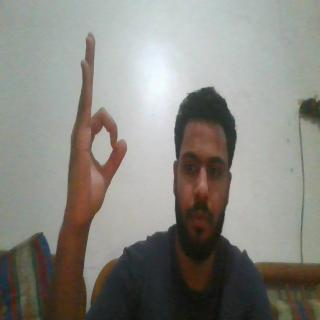Space: (61, 25, 130, 251)
